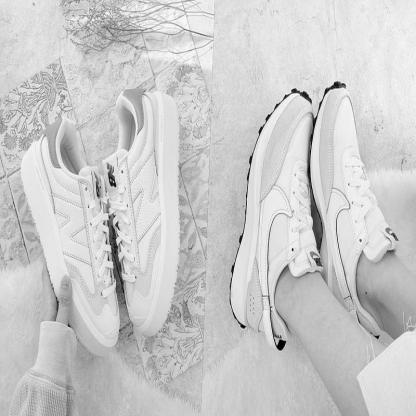left_foot: (239, 68, 319, 365), (19, 107, 115, 353)
right_foot: (102, 75, 195, 345), (321, 43, 398, 321)
